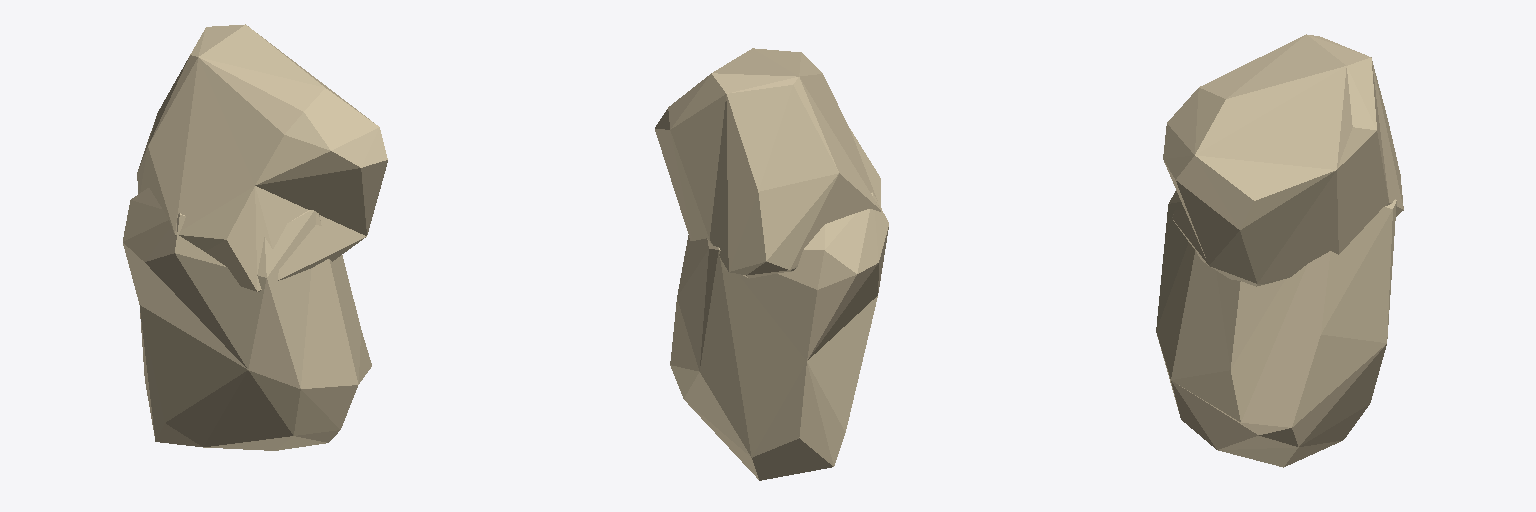
3 views of the same model, side by side, from view 1: azimuth 30°, elevation 25°; view 2: azimuth 150°, elevation 25°; view 3: azimuth 270°, elevation 25° (orthographic).
Visible parts, largest first — view 1: 左前腕; view 2: 左前腕; view 3: 左前腕.
Boxes of the visible parts, box(x1,y1,x2,y2) form: 左前腕: box(123, 24, 387, 450); 左前腕: box(655, 48, 888, 480); 左前腕: box(1156, 34, 1403, 467).
Size of the model in its own units: 0.7167 by 1.24 by 0.6908.
Materials: 1 (1 with a texture image).